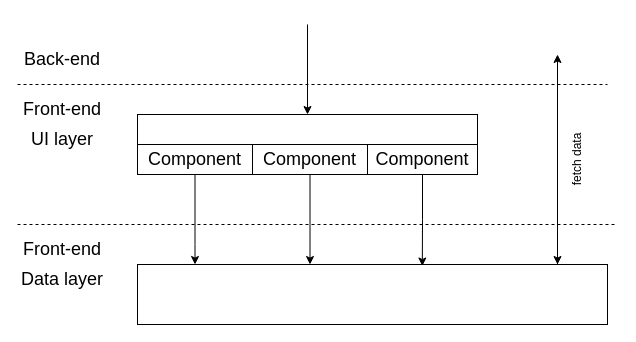
Some shapes in this 636 by 342 pixel diagram are drawn without their labels. Here are the shapes that lost their labels. From the top down, the box of each, then its label:
(136, 114, 478, 144): UI
(136, 264, 608, 324): Store
